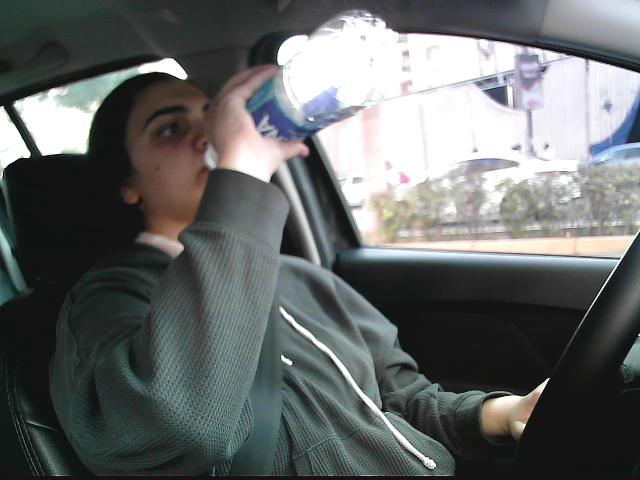Drinking: (204, 8, 404, 174)
